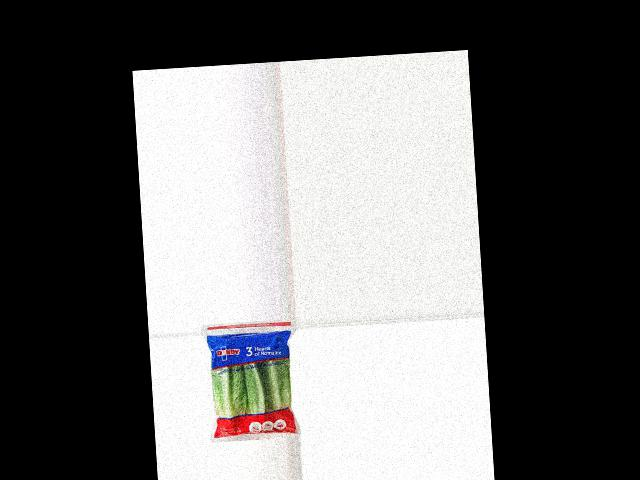lettuce: (205, 327, 298, 443)
